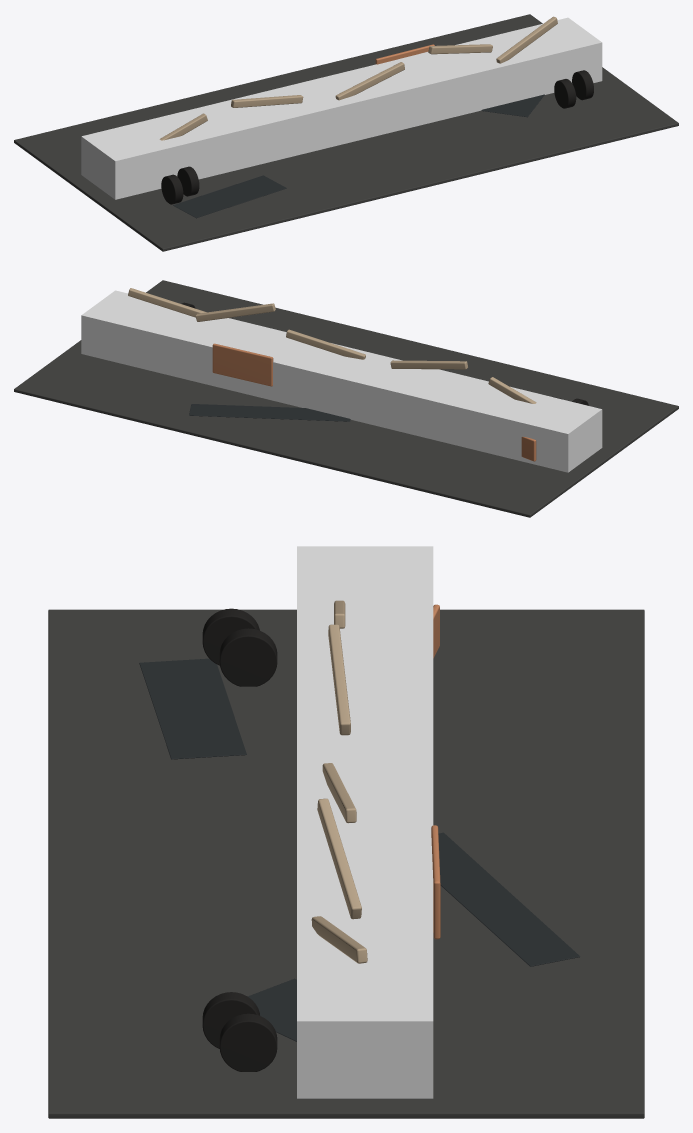
File: dz_einstein_wet_road_barricade_premium.glb
3 views of the same model, one above another, from view 1: azimuth 30°, elevation 25°; view 2: azimuth 150°, elevation 25°; view 3: azimuth 270°, elevation 25° (orthographic). The views are drawn at different scales.
Visible parts, largest first — view 1: wet asphalt road slab 14m x 7m, COL_proxy_wet_road_barricade_14x7x1m, irregular glossy puddle patch 1, crossed weathered plank silhouette 3, irregular glossy puddle patch 3, crossed weathered plank silhouette 5, crossed weathered plank silhouette 2, crossed weathered plank silhouette 4, dark tire stack silhouette 1, dark tire stack silhouette 3, dark tire stack silhouette 4, dark tire stack silhouette 2 (+2 smaller); view 2: wet asphalt road slab 14m x 7m, COL_proxy_wet_road_barricade_14x7x1m, jagged rusted metal barricade plate 2, irregular glossy puddle patch 2, crossed weathered plank silhouette 3, crossed weathered plank silhouette 4, crossed weathered plank silhouette 2, crossed weathered plank silhouette 5, crossed weathered plank silhouette 1; view 3: wet asphalt road slab 14m x 7m, COL_proxy_wet_road_barricade_14x7x1m, irregular glossy puddle patch 1, irregular glossy puddle patch 2, dark tire stack silhouette 2, dark tire stack silhouette 4, irregular glossy puddle patch 3, crossed weathered plank silhouette 4, dark tire stack silhouette 3, dark tire stack silhouette 1, crossed weathered plank silhouette 2, crossed weathered plank silhouette 5 (+2 smaller).
Boxes of the visible parts, left/top/right/bottom form: wet asphalt road slab 14m x 7m: left=14, top=14, right=678, bottom=251; COL_proxy_wet_road_barricade_14x7x1m: left=81, top=17, right=602, bottom=199; irregular glossy puddle patch 1: left=173, top=175, right=286, bottom=218; crossed weathered plank silhouette 3: left=335, top=62, right=404, bottom=100; irregular glossy puddle patch 3: left=481, top=94, right=544, bottom=117; crossed weathered plank silhouette 5: left=496, top=16, right=557, bottom=63; crossed weathered plank silhouette 2: left=231, top=95, right=303, bottom=107; crossed weathered plank silhouette 4: left=428, top=44, right=492, bottom=54; dark tire stack silhouette 1: left=161, top=174, right=183, bottom=204; dark tire stack silhouette 3: left=554, top=79, right=576, bottom=108; dark tire stack silhouette 4: left=572, top=70, right=593, bottom=100; dark tire stack silhouette 2: left=177, top=166, right=199, bottom=196; wet asphalt road slab 14m x 7m: left=14, top=280, right=678, bottom=517; COL_proxy_wet_road_barricade_14x7x1m: left=81, top=290, right=602, bottom=472; jagged rusted metal barricade plate 2: left=212, top=343, right=273, bottom=386; irregular glossy puddle patch 2: left=189, top=404, right=350, bottom=421; crossed weathered plank silhouette 3: left=286, top=329, right=365, bottom=359; crossed weathered plank silhouette 4: left=195, top=303, right=275, bottom=321; crossed weathered plank silhouette 2: left=390, top=360, right=467, bottom=369; crossed weathered plank silhouette 5: left=128, top=288, right=206, bottom=317; crossed weathered plank silhouette 1: left=488, top=377, right=536, bottom=403; wet asphalt road slab 14m x 7m: left=48, top=609, right=644, bottom=1118; COL_proxy_wet_road_barricade_14x7x1m: left=297, top=546, right=433, bottom=1098; irregular glossy puddle patch 1: left=139, top=658, right=246, bottom=759; irregular glossy puddle patch 2: left=438, top=832, right=580, bottom=966; dark tire stack silhouette 2: left=219, top=628, right=277, bottom=686; dark tire stack silhouette 4: left=219, top=1013, right=277, bottom=1071; irregular glossy puddle patch 3: left=248, top=978, right=296, bottom=1041; crossed weathered plank silhouette 4: left=317, top=798, right=361, bottom=919; dark tire stack silhouette 3: left=202, top=992, right=259, bottom=1048; dark tire stack silhouette 1: left=202, top=608, right=259, bottom=665; crossed weathered plank silhouette 2: left=328, top=624, right=350, bottom=735; crossed weathered plank silhouette 5: left=311, top=916, right=367, bottom=963.
Bounding box in the file's own units: 14 × 1.89 × 7.
